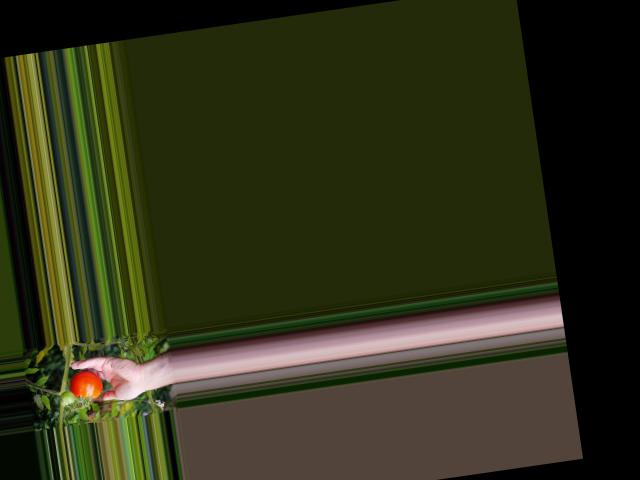tomato: (67, 368, 104, 402)
